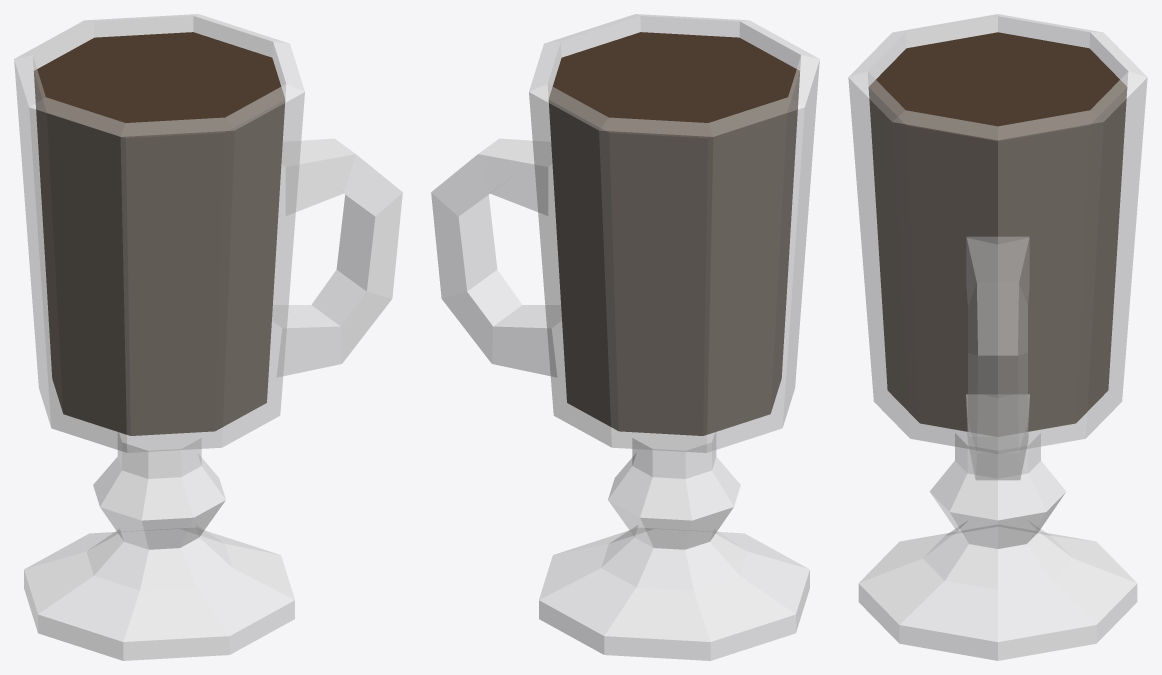
The model's file is drinks-glass-black-coffee.glb.
3 views of the same model, side by side, from view 1: azimuth 30°, elevation 25°; view 2: azimuth 150°, elevation 25°; view 3: azimuth 270°, elevation 25° (orthographic).
Visible parts, largest first — view 1: glass-black-coffee; view 2: glass-black-coffee; view 3: glass-black-coffee.
Boxes of the visible parts, x1,y1,x2,y2 form: glass-black-coffee: (14,14,402,660); glass-black-coffee: (431,14,819,660); glass-black-coffee: (848,14,1147,660).
Bounding box in the file's own units: 0.1056 × 0.1482 × 0.0758.
